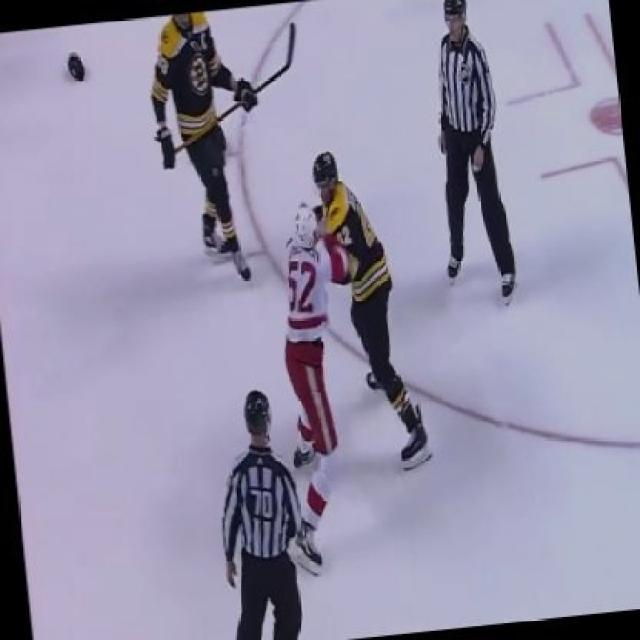fight: (271, 148, 438, 581)
non-fight: (149, 15, 253, 274), (434, 1, 514, 299), (223, 387, 317, 635)
